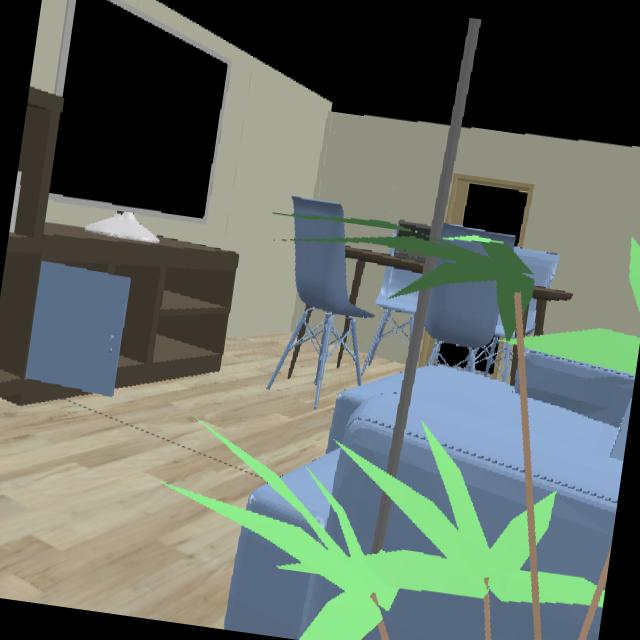chair: (294, 219, 373, 318), (425, 281, 501, 349), (376, 266, 423, 313), (511, 246, 560, 288)
monitor: (48, 0, 227, 218)
shelf: (0, 225, 238, 394)
sofa: (362, 365, 537, 640), (245, 374, 445, 561), (524, 349, 635, 640), (223, 527, 345, 640)
table: (345, 244, 454, 306), (532, 287, 572, 337)
